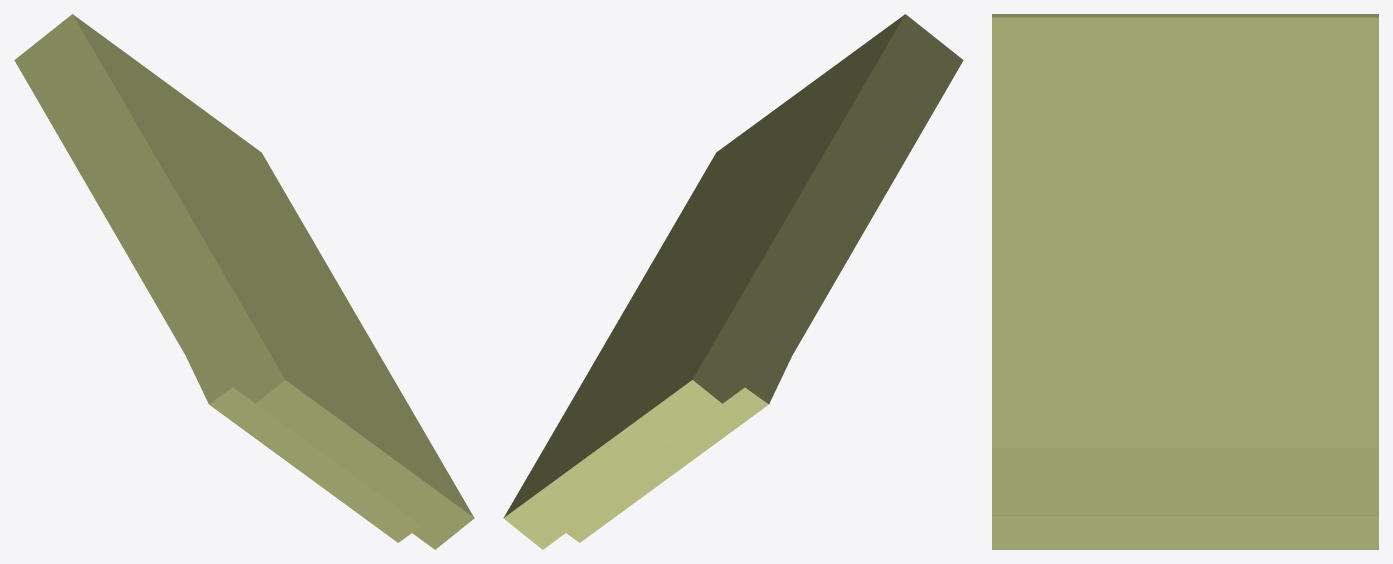
The picture shows the model from 3 angles, left to right: view 1: azimuth 30°, elevation 25°; view 2: azimuth 150°, elevation 25°; view 3: azimuth 270°, elevation 25°; orthographic projection. The views are drawn at different scales.
Parts seen in each view (by area): view 1: 0_1_2_0_3_3_0_2_1_3; view 2: 0_1_2_0_3_3_0_2_1_3; view 3: 0_1_2_0_3_3_0_2_1_3.
Boxes of the visible parts, x1,y1,x2,y2 form: 0_1_2_0_3_3_0_2_1_3: [14, 14, 474, 549]; 0_1_2_0_3_3_0_2_1_3: [503, 14, 963, 549]; 0_1_2_0_3_3_0_2_1_3: [992, 14, 1378, 549].
Bounding box in the file's own units: 7.45 × 11.54 × 9.
